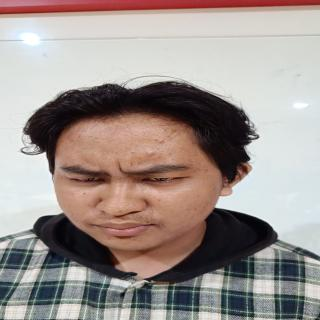Marah: (51, 116, 220, 255)
